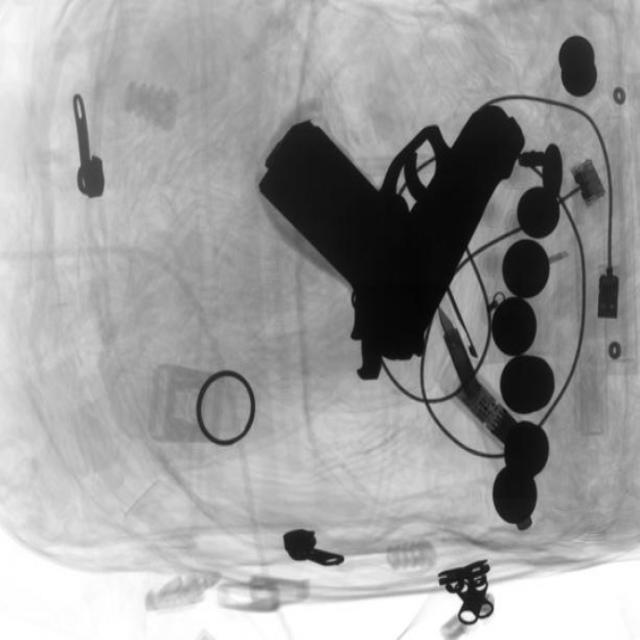GUN: (262, 95, 526, 367)
